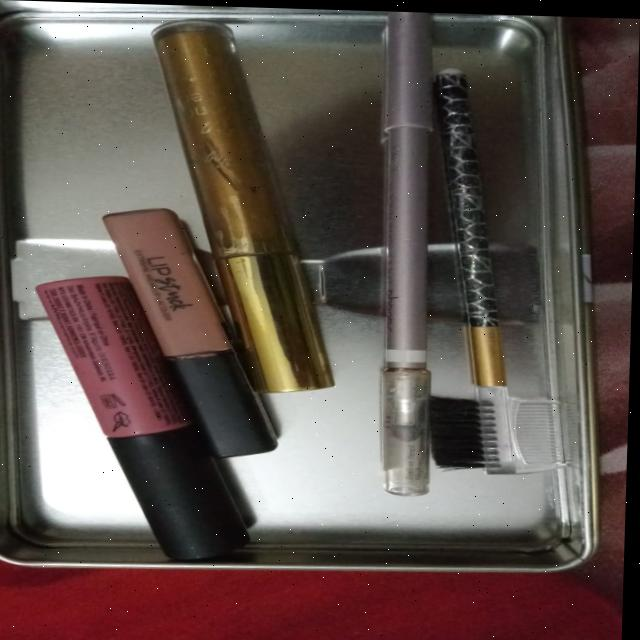lip gloss: (0, 200, 288, 566)
lip liner: (352, 8, 449, 503)
